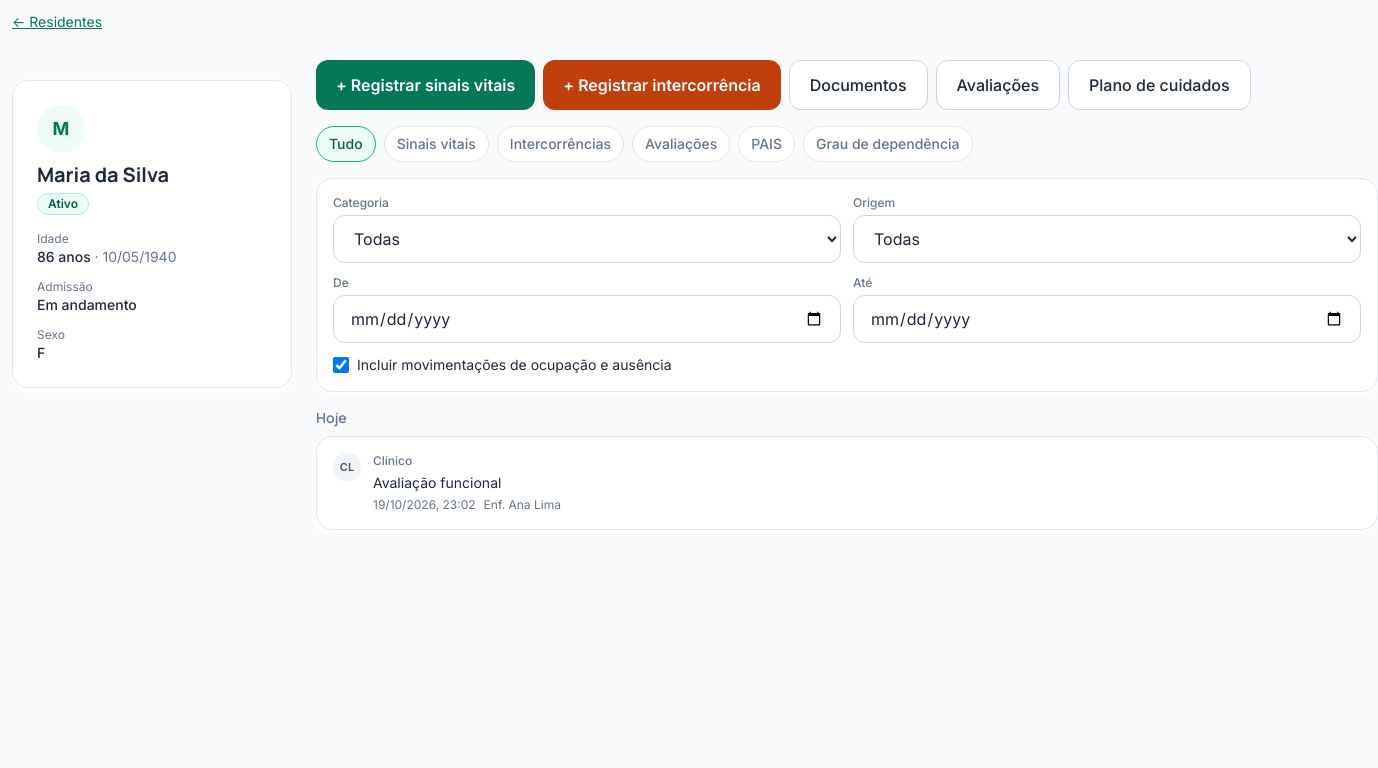
Test case: ResidenteProntuario › 8. 403 ao trocar filtro preserva eventos já carregados e mostra erro associado ao filtro
Check: the text "Avaliação funcional" is shown, box [373,474,501,491]
Select "Medicação" in the dropdown labelled "Categoria" at (587,239), box [333,215,841,263]
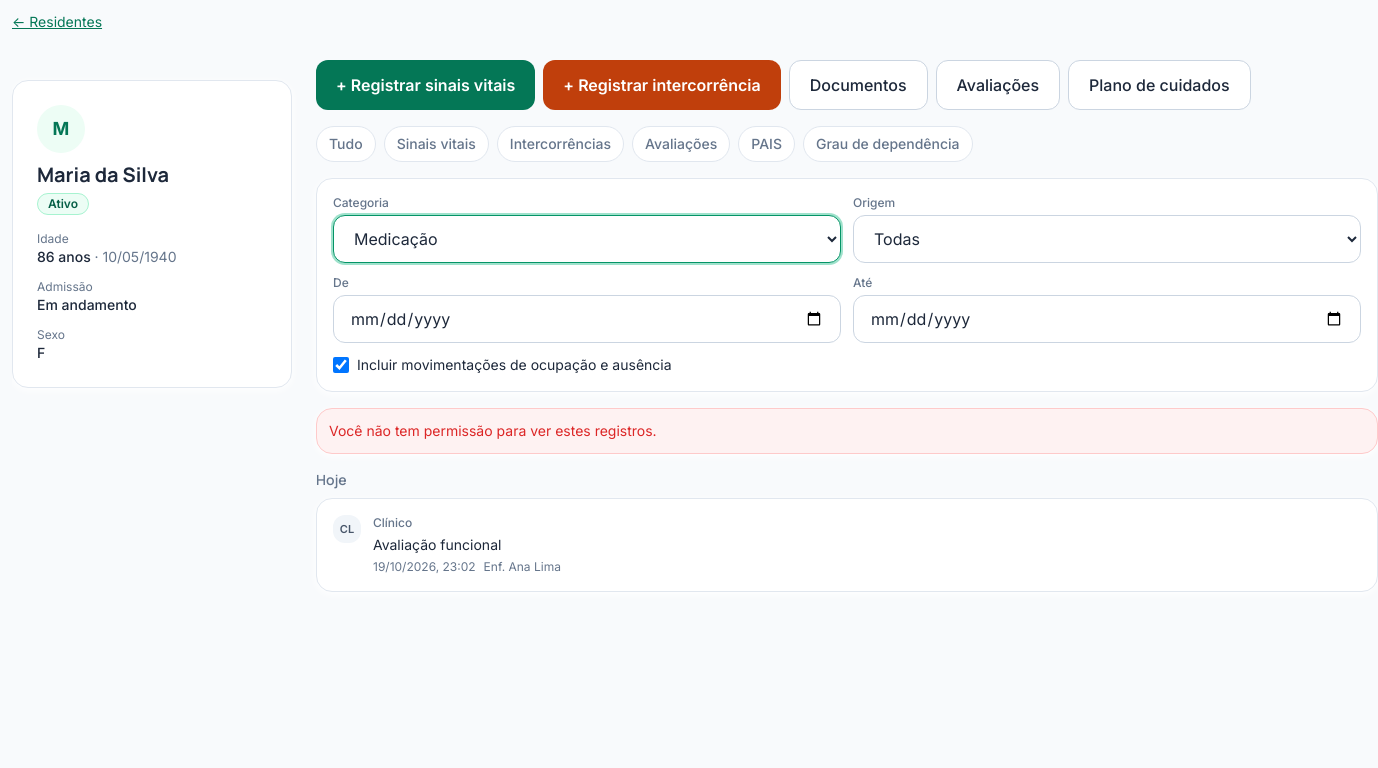
Check: the text "Avaliação funcional" is shown, box [373,536,501,553]
Check: the text "Você não tem permissão para ver estes registros." is shown, box [316,408,1377,454]
